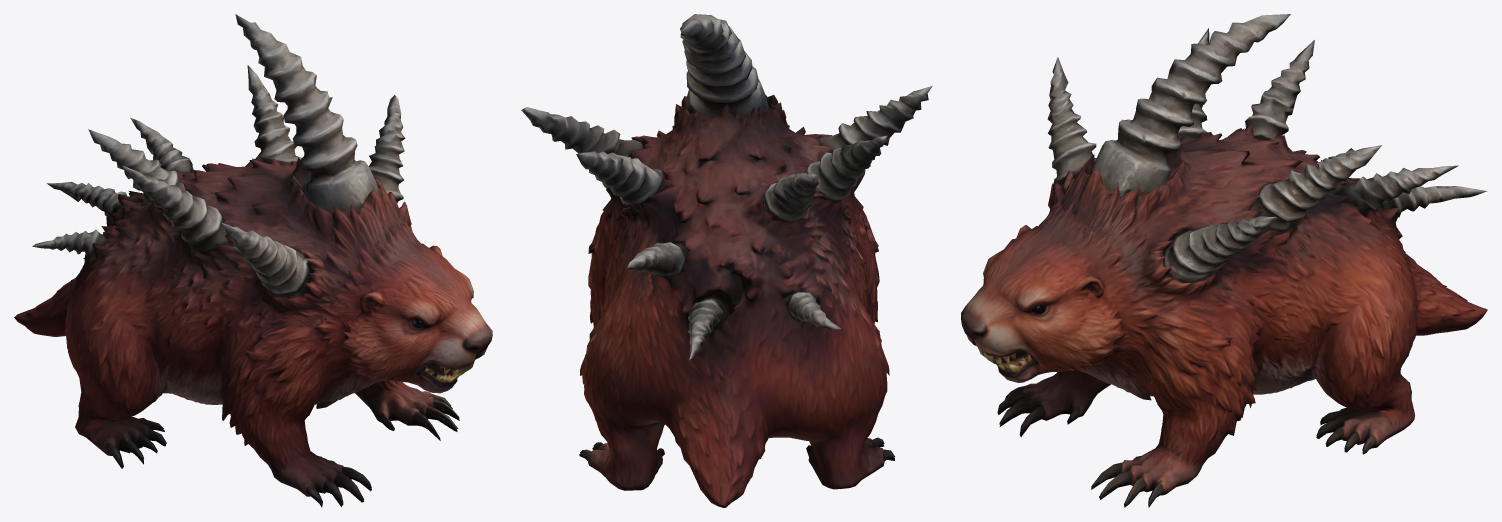
3 renders of one model, left to right at view 1: azimuth 30°, elevation 25°; view 2: azimuth 150°, elevation 25°; view 3: azimuth 270°, elevation 25°, orthographic. The views are drawn at different scales.
Parts seen in each view (by area): view 1: tripo_node_7673acdd-247c-44c5-9065-a20a478678d7; view 2: tripo_node_7673acdd-247c-44c5-9065-a20a478678d7; view 3: tripo_node_7673acdd-247c-44c5-9065-a20a478678d7.
Boxes of the visible parts, x1,y1,x2,y2 form: tripo_node_7673acdd-247c-44c5-9065-a20a478678d7: [14, 14, 492, 507]; tripo_node_7673acdd-247c-44c5-9065-a20a478678d7: [521, 14, 932, 507]; tripo_node_7673acdd-247c-44c5-9065-a20a478678d7: [961, 14, 1487, 507].
Bounding box in the file's own units: 0.7608 × 0.8576 × 0.9792.
1 material, 1 textured.
